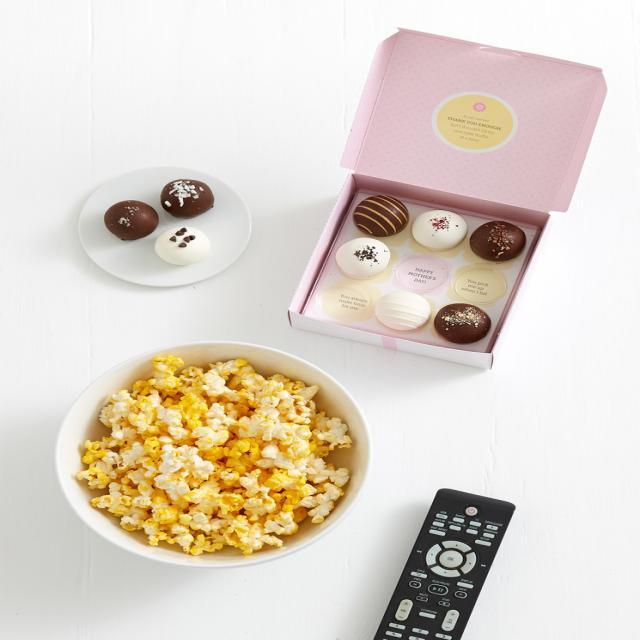Popcorn: (77, 355, 353, 555)
